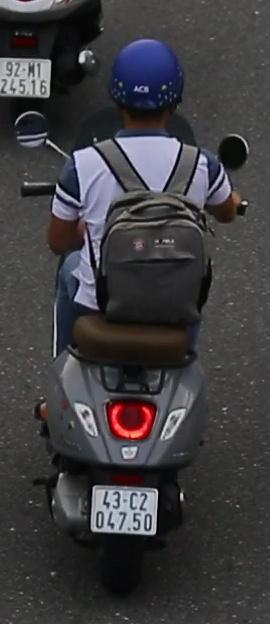LP: (88, 484, 161, 544)
helmet: (108, 31, 187, 143)
